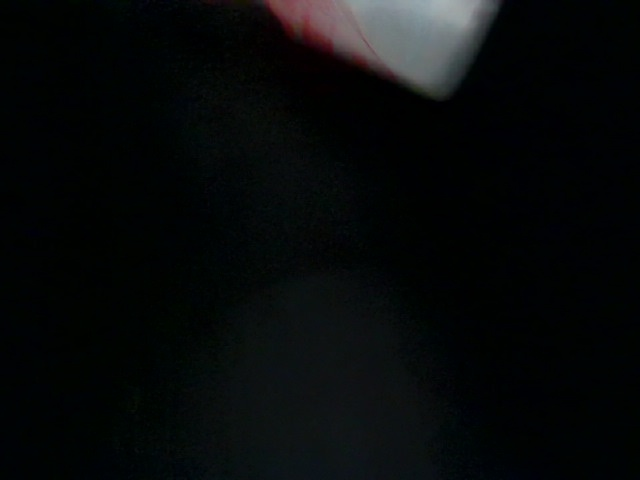CYLJ: (471, 234, 640, 476)
